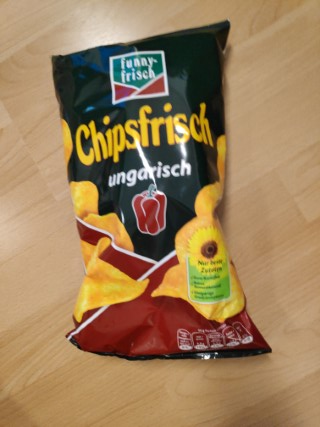chipsfrisch: (50, 17, 273, 359)
